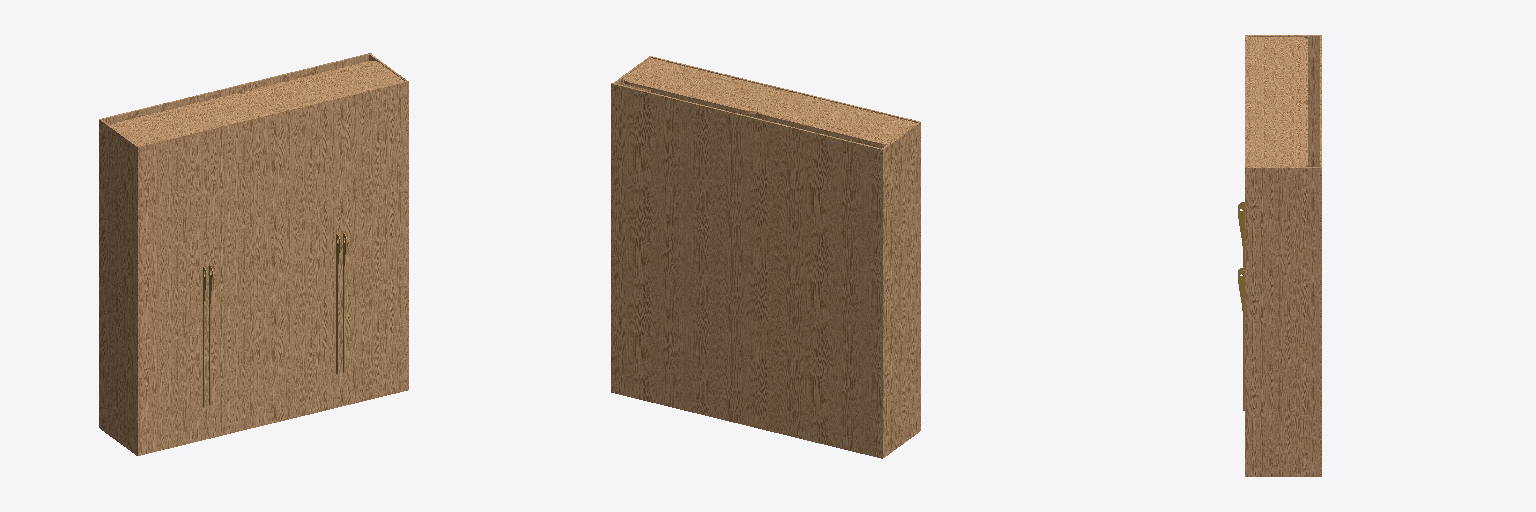
3 renders of one model, left to right at view 1: azimuth 30°, elevation 25°; view 2: azimuth 150°, elevation 25°; view 3: azimuth 270°, elevation 25°, orthographic.
Parts seen in each view (by area): view 1: Mesh5 G_3DGeom_1_14 G_3DGeom_1_13 G_3DGeom_1_12 Plane001_3 Assem, Mesh6 G_3DGeom_1_17 G_3DGeom_1_16 G_3DGeom_1_15 Plane002_1 Assem, Mesh7 G_3DGeom_1_20 G_3DGeom_1_19 G_3DGeom_1_18 Plane001_4 Assem, Mesh4 G_3DGeom_1_11 G_3DGeom_1_10 G_3DGeom_1_9 Plane002 Assembly, Mesh2 G_3DGeom_1_5 G_3DGeom_1_4 G_3DGeom_1_3 Plane001_1 Assembly, Mesh15 G_3DGeom_8_11 G_3DGeom_8_10 G_3DGeom_8_9 Line004_1 Assemb, Mesh8 G_3DGeom_8_2 G_3DGeom_8_1 G_3DGeom_8 Line004 Assembly_5 As, Mesh3 G_3DGeom_1_8 G_3DGeom_1_7 G_3DGeom_1_6 Plane001_2 Assembly, Mesh1 G_3DGeom_1_2 G_3DGeom_1_1 G_3DGeom_1 Plane001 Assembly_5 A; view 2: Mesh3 G_3DGeom_1_8 G_3DGeom_1_7 G_3DGeom_1_6 Plane001_2 Assembly, Mesh2 G_3DGeom_1_5 G_3DGeom_1_4 G_3DGeom_1_3 Plane001_1 Assembly, Mesh15 G_3DGeom_8_11 G_3DGeom_8_10 G_3DGeom_8_9 Line004_1 Assemb, Mesh8 G_3DGeom_8_2 G_3DGeom_8_1 G_3DGeom_8 Line004 Assembly_5 As, Mesh1 G_3DGeom_1_2 G_3DGeom_1_1 G_3DGeom_1 Plane001 Assembly_5 A; view 3: Mesh1 G_3DGeom_1_2 G_3DGeom_1_1 G_3DGeom_1 Plane001 Assembly_5 A, Mesh8 G_3DGeom_8_2 G_3DGeom_8_1 G_3DGeom_8 Line004 Assembly_5 As, Mesh15 G_3DGeom_8_11 G_3DGeom_8_10 G_3DGeom_8_9 Line004_1 Assemb, Mesh2 G_3DGeom_1_5 G_3DGeom_1_4 G_3DGeom_1_3 Plane001_1 Assembly, Mesh3 G_3DGeom_1_8 G_3DGeom_1_7 G_3DGeom_1_6 Plane001_2 Assembly.
Boxes of the visible parts, box(x1,y1,x2,y2) form: Mesh5 G_3DGeom_1_14 G_3DGeom_1_13 G_3DGeom_1_12 Plane001_3 Assem: box(139, 130, 205, 455); Mesh6 G_3DGeom_1_17 G_3DGeom_1_16 G_3DGeom_1_15 Plane002_1 Assem: box(339, 81, 406, 406); Mesh7 G_3DGeom_1_20 G_3DGeom_1_19 G_3DGeom_1_18 Plane001_4 Assem: box(273, 97, 339, 422); Mesh4 G_3DGeom_1_11 G_3DGeom_1_10 G_3DGeom_1_9 Plane002 Assembly: box(206, 114, 272, 438); Mesh2 G_3DGeom_1_5 G_3DGeom_1_4 G_3DGeom_1_3 Plane001_1 Assembly: box(99, 119, 138, 455); Mesh15 G_3DGeom_8_11 G_3DGeom_8_10 G_3DGeom_8_9 Line004_1 Assemb: box(245, 61, 403, 113); Mesh8 G_3DGeom_8_2 G_3DGeom_8_1 G_3DGeom_8 Line004 Assembly_5 As: box(111, 93, 270, 145); Mesh3 G_3DGeom_1_8 G_3DGeom_1_7 G_3DGeom_1_6 Plane001_2 Assembly: box(102, 53, 371, 125); Mesh1 G_3DGeom_1_2 G_3DGeom_1_1 G_3DGeom_1 Plane001 Assembly_5 A: box(369, 54, 408, 390); Mesh3 G_3DGeom_1_8 G_3DGeom_1_7 G_3DGeom_1_6 Plane001_2 Assembly: box(611, 83, 880, 457); Mesh2 G_3DGeom_1_5 G_3DGeom_1_4 G_3DGeom_1_3 Plane001_1 Assembly: box(881, 121, 920, 458); Mesh15 G_3DGeom_8_11 G_3DGeom_8_10 G_3DGeom_8_9 Line004_1 Assemb: box(624, 58, 783, 113); Mesh8 G_3DGeom_8_2 G_3DGeom_8_1 G_3DGeom_8 Line004 Assembly_5 As: box(757, 90, 916, 146); Mesh1 G_3DGeom_1_2 G_3DGeom_1_1 G_3DGeom_1 Plane001 Assembly_5 A: box(612, 56, 651, 392); Mesh1 G_3DGeom_1_2 G_3DGeom_1_1 G_3DGeom_1 Plane001 Assembly_5 A: box(1245, 167, 1319, 476); Mesh8 G_3DGeom_8_2 G_3DGeom_8_1 G_3DGeom_8 Line004 Assembly_5 As: box(1247, 37, 1307, 102); Mesh15 G_3DGeom_8_11 G_3DGeom_8_10 G_3DGeom_8_9 Line004_1 Assemb: box(1247, 102, 1307, 166); Mesh2 G_3DGeom_1_5 G_3DGeom_1_4 G_3DGeom_1_3 Plane001_1 Assembly: box(1245, 35, 1321, 166); Mesh3 G_3DGeom_1_8 G_3DGeom_1_7 G_3DGeom_1_6 Plane001_2 Assembly: box(1320, 36, 1321, 476).
Size of the model in its own units: 2164 by 2352 by 580.
2 materials, 2 textured.